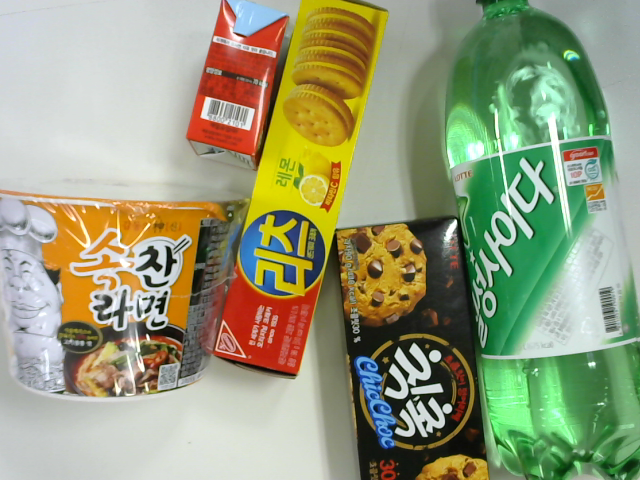Chicchok_Original_2400: (325, 202, 496, 480)
Chilseong_Cider_1.5L: (440, 1, 640, 476)
Hejangchan: (1, 188, 261, 401)
Picnic_Apple: (183, 4, 296, 173)
Ritz_Remon_96g: (209, 1, 394, 386)
